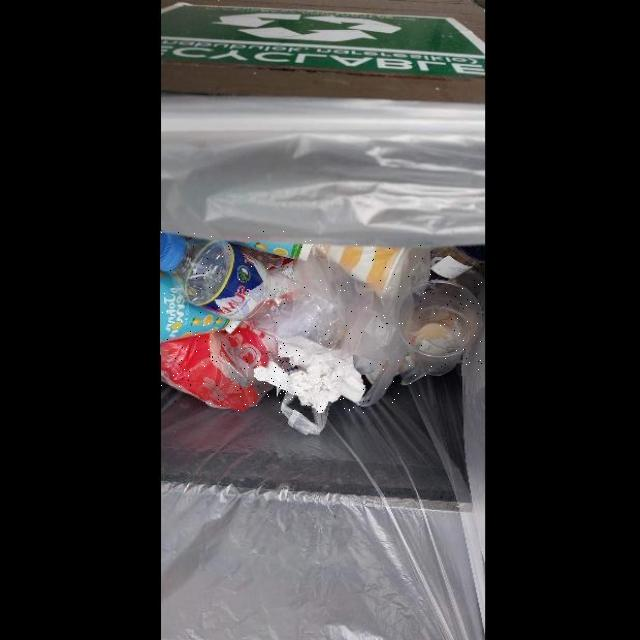paper: (254, 343, 365, 413)
plastic: (161, 231, 344, 354), (296, 244, 431, 406), (161, 321, 278, 411), (398, 279, 483, 376)
